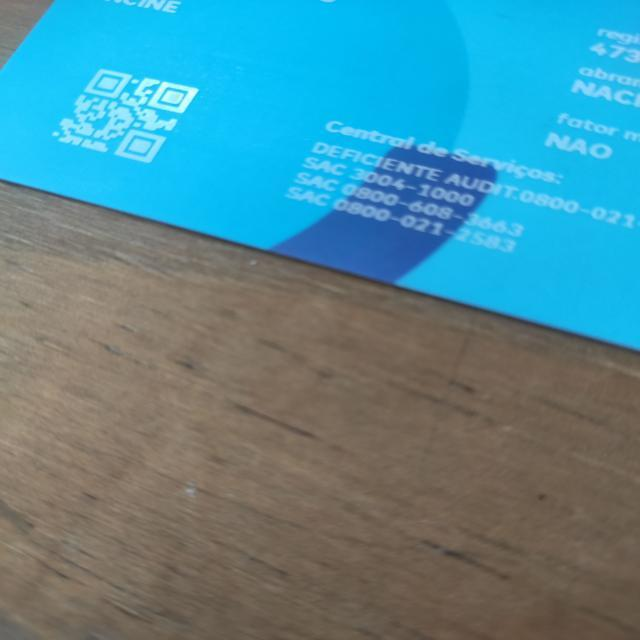qrcode: (51, 68, 200, 165)
